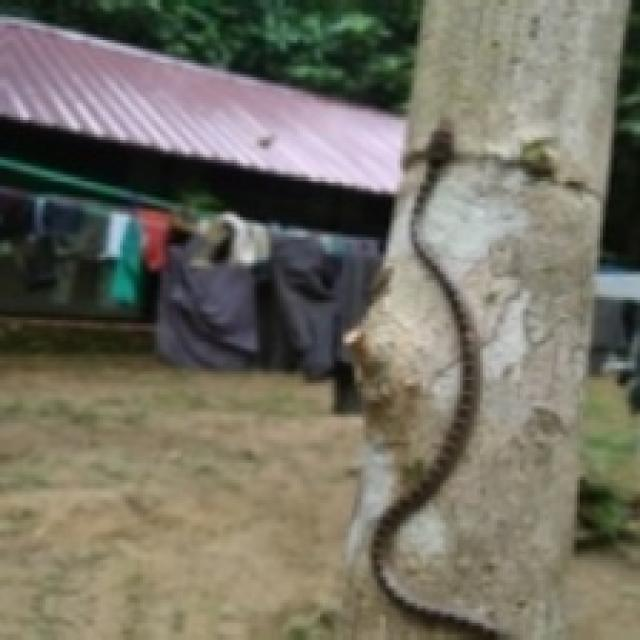paradise tree snake: (371, 128, 499, 638)
